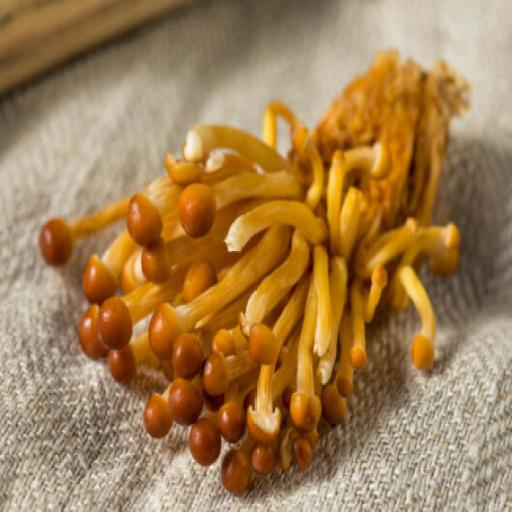Enoki Mushroom: (38, 47, 478, 497)
